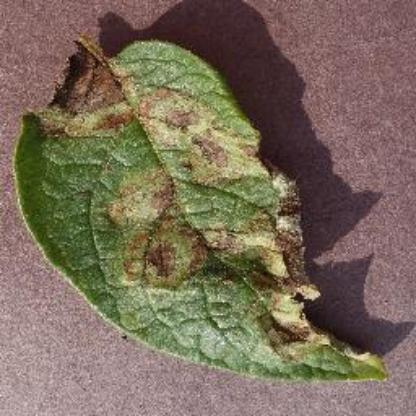Late-Blight: (16, 28, 396, 380)
